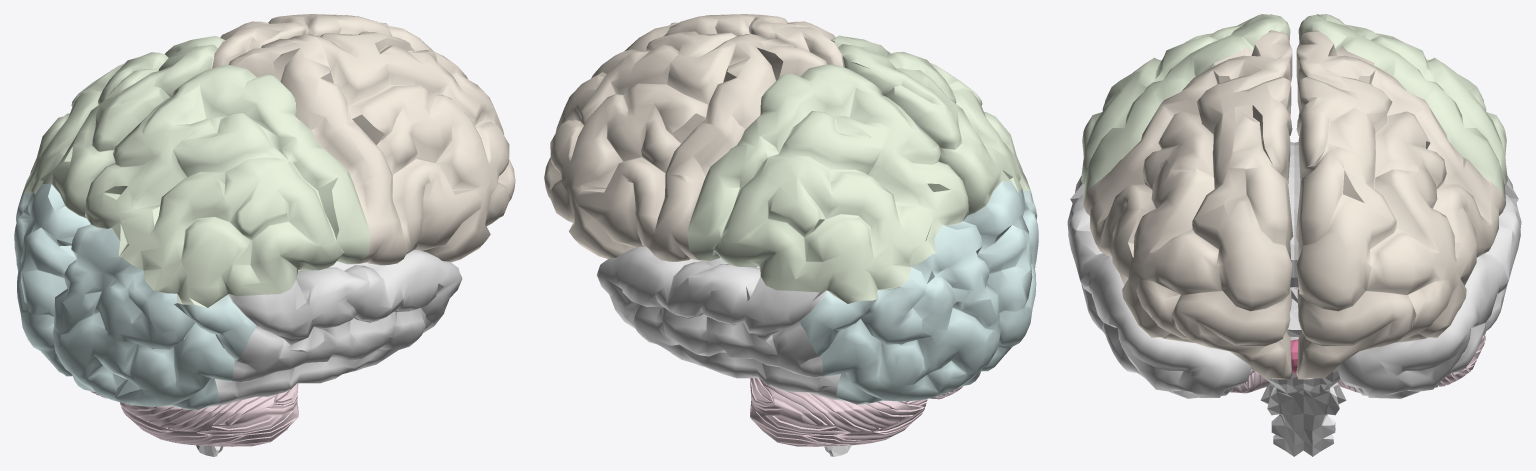
File: Brain_convertedInBlenderToGLTF_withMaterial3.glb
3 views of the same model, side by side, from view 1: azimuth 30°, elevation 25°; view 2: azimuth 150°, elevation 25°; view 3: azimuth 270°, elevation 25° (orthographic). The views are drawn at different scales.
Parts seen in each view (by area): view 1: parietal, frontal, occipital, temporal, cereb; view 2: parietal, frontal, occipital, temporal, cereb; view 3: frontal, temporal, parietal, brainstem, corpus_callosum, cereb.
Part boxes in pixels (x1=…): parietal: x1=22, y1=36, x2=370, y2=307; frontal: x1=212, y1=14, x2=515, y2=265; occipital: x1=14, y1=183, x2=256, y2=409; temporal: x1=205, y1=250, x2=462, y2=407; cereb: x1=90, y1=383, x2=298, y2=446; parietal: x1=687, y1=35, x2=1030, y2=303; frontal: x1=544, y1=14, x2=843, y2=261; occipital: x1=799, y1=181, x2=1038, y2=404; temporal: x1=597, y1=246, x2=846, y2=401; cereb: x1=750, y1=378, x2=963, y2=446; frontal: x1=1083, y1=30, x2=1505, y2=379; temporal: x1=1067, y1=176, x2=1521, y2=398; parietal: x1=1081, y1=14, x2=1507, y2=203; brainstem: x1=1251, y1=287, x2=1346, y2=456; corpus_callosum: x1=1288, y1=142, x2=1300, y2=287; cereb: x1=1230, y1=332, x2=1485, y2=393.
Bounding box in the file's own units: 0.1631 × 0.1427 × 0.1341.
